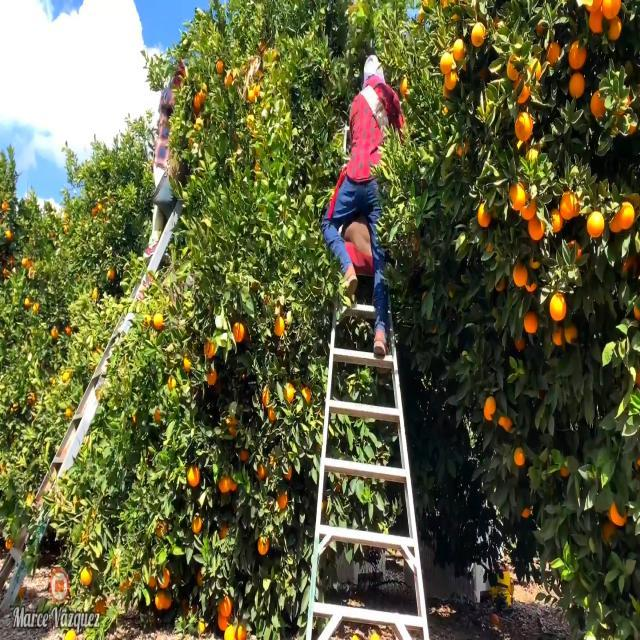Jeruk Sudah Matang: (558, 190, 578, 228), (568, 38, 590, 70), (586, 208, 606, 243), (514, 108, 532, 144), (609, 498, 628, 530), (590, 86, 608, 118), (568, 72, 587, 100), (478, 200, 494, 230), (619, 202, 635, 232), (471, 20, 488, 48), (528, 212, 544, 241), (546, 41, 563, 68), (589, 7, 604, 37), (186, 464, 202, 492), (512, 262, 528, 288), (550, 293, 566, 319), (444, 70, 460, 96), (602, 0, 624, 18), (219, 594, 234, 620), (274, 491, 292, 512), (514, 78, 530, 101), (522, 315, 540, 335), (565, 324, 578, 351), (440, 49, 453, 76), (230, 321, 244, 346), (256, 532, 270, 557), (607, 18, 621, 42), (506, 54, 520, 78), (157, 564, 170, 588), (282, 382, 296, 404), (529, 58, 543, 79), (510, 186, 522, 210), (514, 444, 526, 468), (520, 504, 534, 524), (274, 311, 284, 339), (498, 410, 512, 430), (202, 338, 216, 358), (485, 395, 497, 417), (301, 385, 313, 407), (154, 590, 167, 610), (191, 512, 201, 536), (153, 312, 165, 331), (214, 56, 227, 73), (453, 40, 463, 62), (206, 366, 216, 388), (219, 475, 231, 493), (256, 463, 268, 481), (514, 333, 525, 352), (552, 328, 562, 348), (526, 274, 536, 294), (182, 354, 192, 374), (529, 256, 540, 272), (240, 448, 250, 462)
